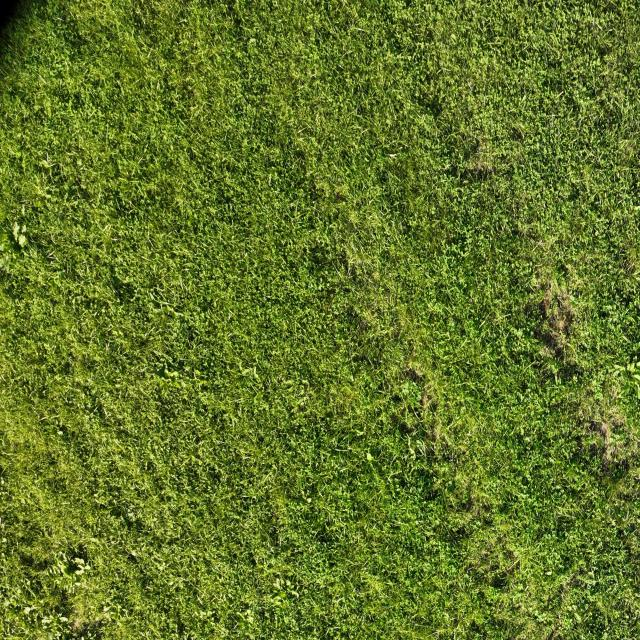rumex: (7, 591, 82, 640), (152, 363, 192, 412), (49, 548, 94, 590), (263, 575, 307, 617), (6, 210, 32, 254)
